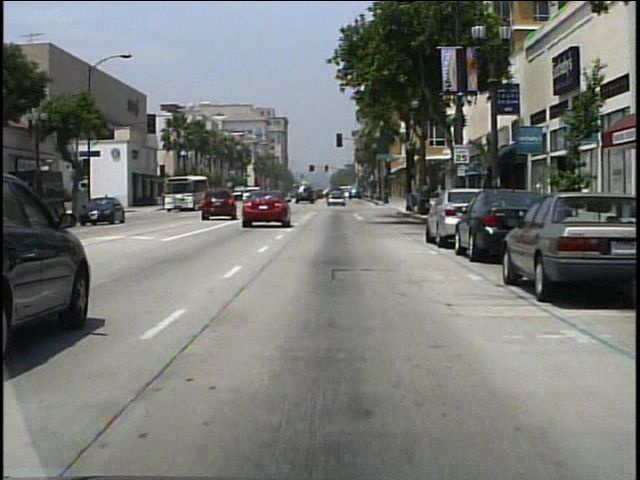person: (105, 193, 112, 216)
